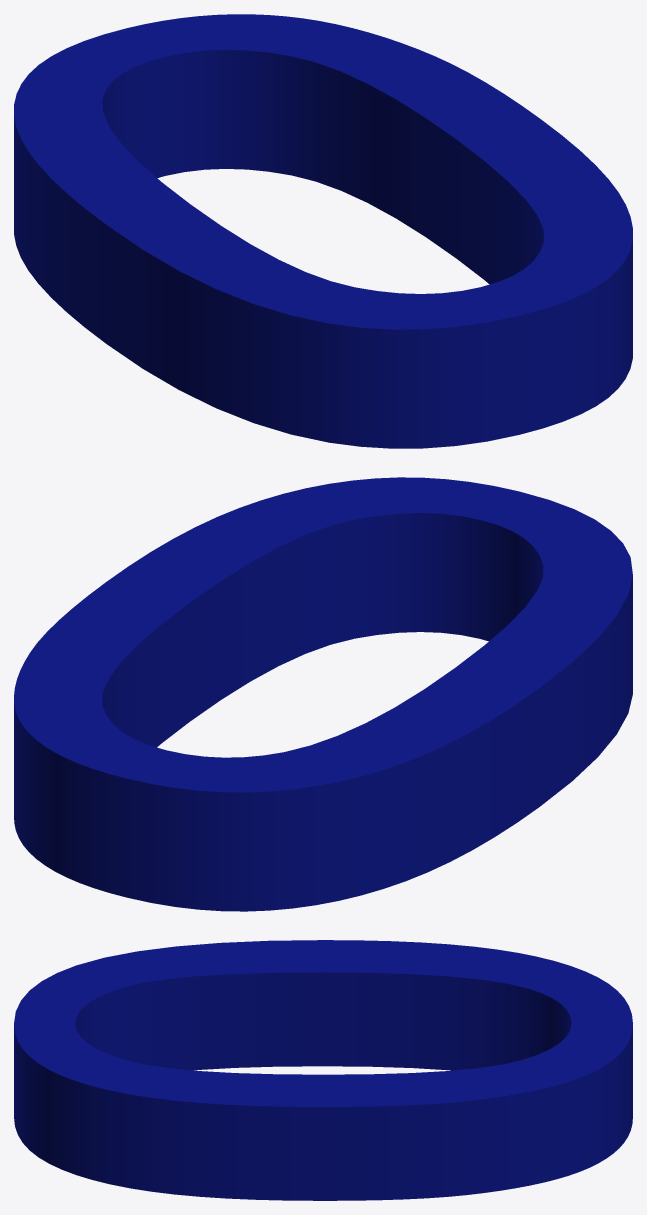
3 views of the same model, one above another, from view 1: azimuth 30°, elevation 25°; view 2: azimuth 150°, elevation 25°; view 3: azimuth 270°, elevation 25° (orthographic). The views are drawn at different scales.
Parts seen in each view (by area): view 1: TextPlus062; view 2: TextPlus062; view 3: TextPlus062.
Part boxes in pixels (<box>): TextPlus062: <box>14,14,632,448</box>; TextPlus062: <box>14,477,632,911</box>; TextPlus062: <box>14,940,632,1200</box>.
Bounding box in the file's own units: 16.72 × 4.38 × 26.2.
